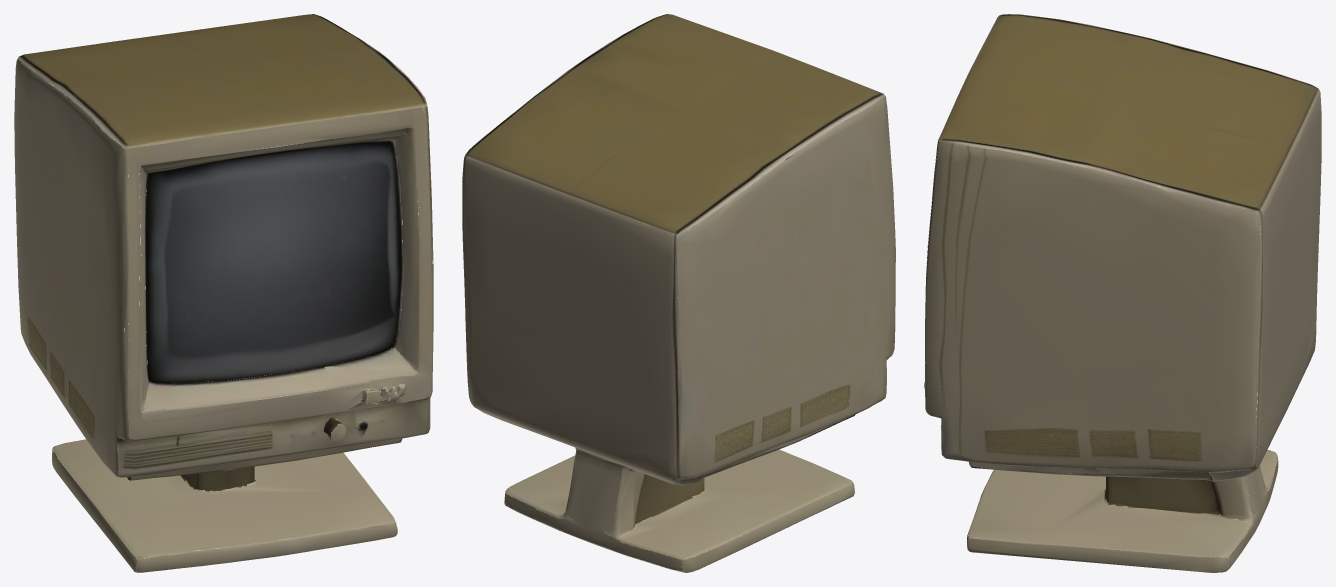
File: crt.glb
3 renders of one model, left to right at view 1: azimuth 30°, elevation 25°; view 2: azimuth 150°, elevation 25°; view 3: azimuth 270°, elevation 25°, orthographic. The views are drawn at different scales.
Parts seen in each view (by area): view 1: crt; view 2: crt; view 3: crt.
Part boxes in pixels (left/top/right/bottom): crt: left=14, top=14, right=433, bottom=572; crt: left=462, top=14, right=895, bottom=572; crt: left=924, top=14, right=1321, bottom=572.
Bounding box in the file's own units: 0.3923 × 0.492 × 0.42.
1 material, 1 textured.
